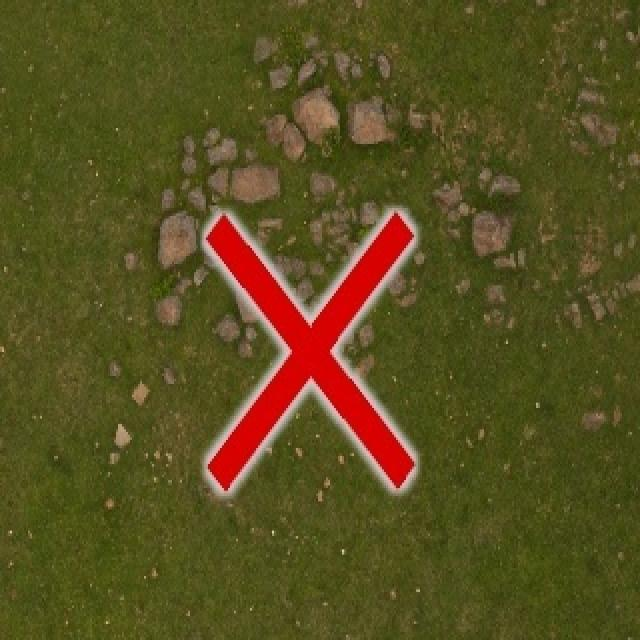x_marker: (205, 212, 413, 489)
